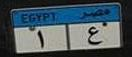1: (36, 29, 46, 50)
ain: (87, 25, 102, 48)
